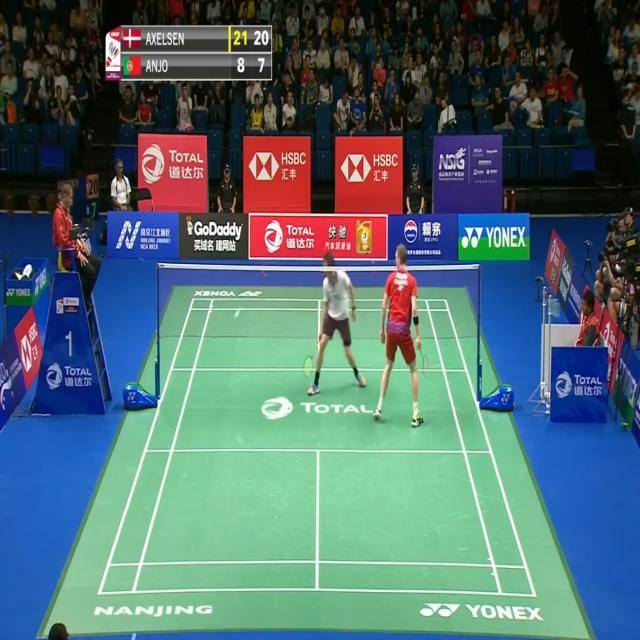Player1: (371, 239, 431, 434)
Player2: (304, 245, 368, 404)
